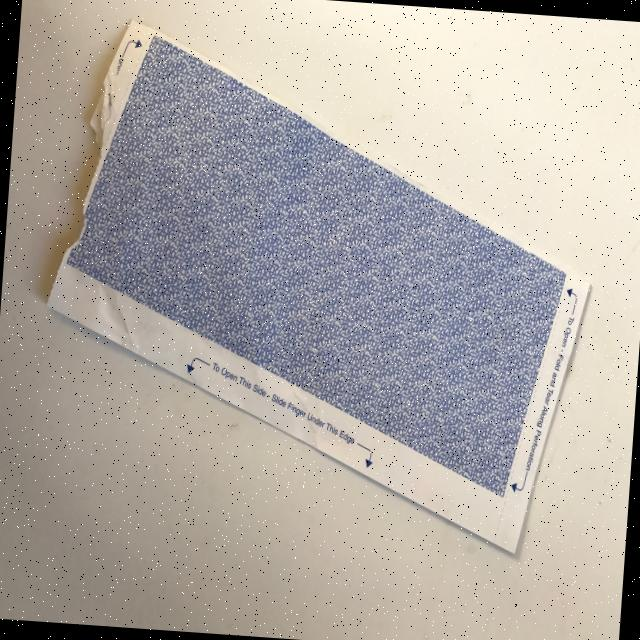paper: (30, 13, 608, 560)
